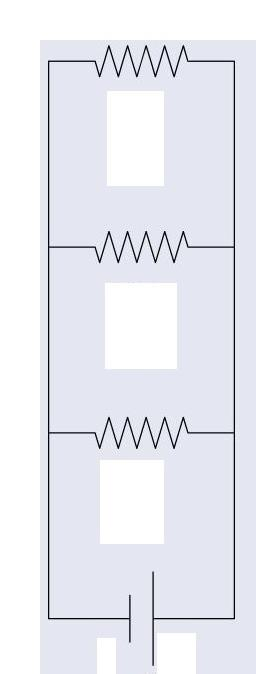resistor: (76, 29, 218, 96), (80, 394, 211, 459), (81, 206, 204, 268)
